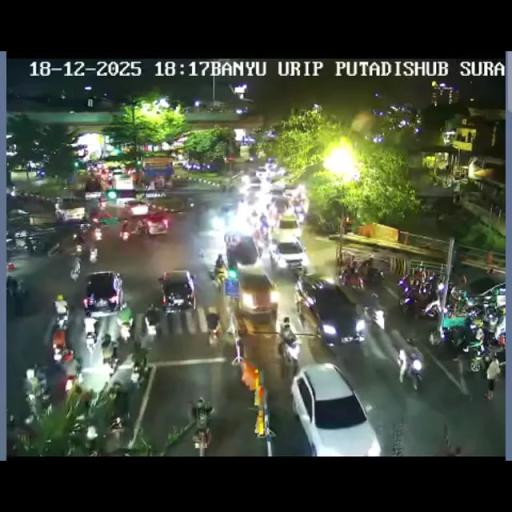Car: (290, 362, 378, 454), (296, 278, 366, 344), (234, 268, 280, 334), (82, 271, 125, 318), (158, 270, 196, 311), (270, 239, 308, 274), (224, 232, 259, 266), (54, 196, 86, 222), (274, 214, 302, 242), (148, 194, 186, 214), (142, 211, 172, 235), (111, 171, 135, 194), (122, 199, 148, 216), (242, 188, 262, 207), (84, 188, 102, 202), (246, 175, 262, 189), (269, 182, 286, 195), (257, 166, 268, 174)
Motorcycle: (56, 298, 149, 382), (462, 329, 503, 374), (396, 345, 423, 389), (66, 416, 96, 455), (421, 289, 453, 323), (277, 332, 301, 375), (6, 413, 31, 454), (362, 302, 386, 332), (398, 285, 420, 317), (191, 422, 212, 454), (447, 284, 471, 310), (138, 322, 158, 353), (102, 348, 121, 376), (130, 358, 149, 386), (341, 268, 365, 290), (462, 302, 486, 324), (60, 350, 78, 379), (83, 316, 98, 350), (362, 266, 384, 288), (420, 271, 438, 297), (314, 216, 340, 234), (212, 257, 227, 288), (340, 326, 365, 344), (206, 320, 222, 346), (492, 311, 506, 340), (53, 308, 69, 333), (25, 236, 47, 254), (218, 202, 234, 225), (130, 218, 147, 238), (46, 240, 64, 258), (429, 325, 444, 346), (118, 320, 132, 342), (38, 388, 52, 410), (68, 240, 84, 259), (294, 286, 303, 316), (6, 276, 18, 298), (119, 221, 131, 241), (109, 416, 125, 431), (293, 204, 306, 222), (70, 258, 80, 281), (77, 222, 93, 236), (64, 374, 75, 394), (6, 236, 18, 254), (88, 243, 98, 263), (226, 183, 238, 198), (92, 225, 102, 241), (185, 197, 195, 209)
